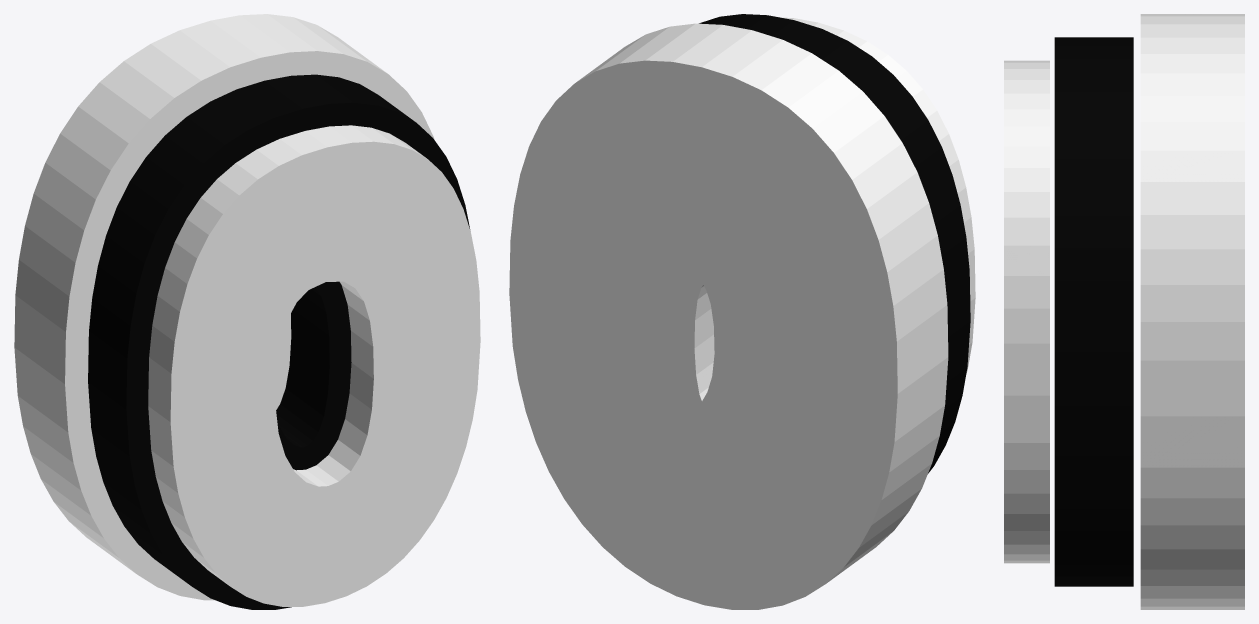
3 views of the same model, side by side, from view 1: azimuth 30°, elevation 25°; view 2: azimuth 150°, elevation 25°; view 3: azimuth 270°, elevation 25° (orthographic). The views are drawn at different scales.
Visible parts, largest first — view 1: テキスト.006_テキスト.003; view 2: テキスト.006_テキスト.003; view 3: テキスト.006_テキスト.003.
Boxes of the visible parts, bbox=[...] form: テキスト.006_テキスト.003: bbox=[14, 14, 480, 609]; テキスト.006_テキスト.003: bbox=[509, 14, 975, 609]; テキスト.006_テキスト.003: bbox=[1004, 14, 1244, 609].
Bounding box in the file's own units: 0.5943 × 0.7857 × 0.31.
Materials: 1 (1 with a texture image).
